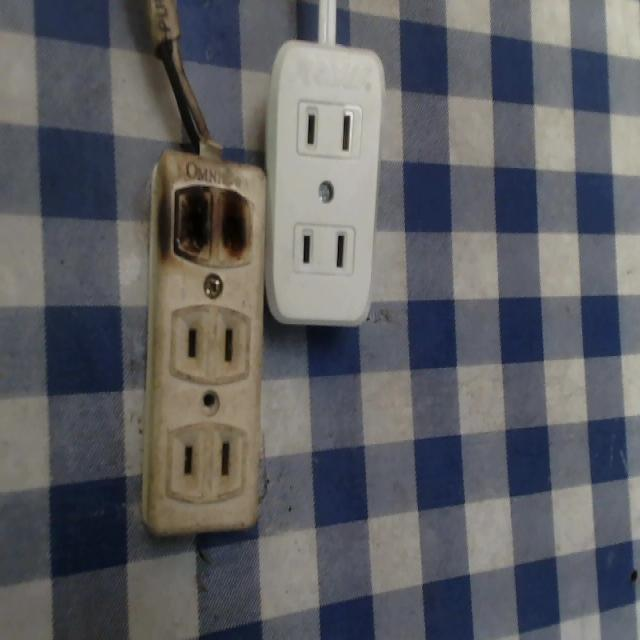-: (170, 180, 261, 271)
